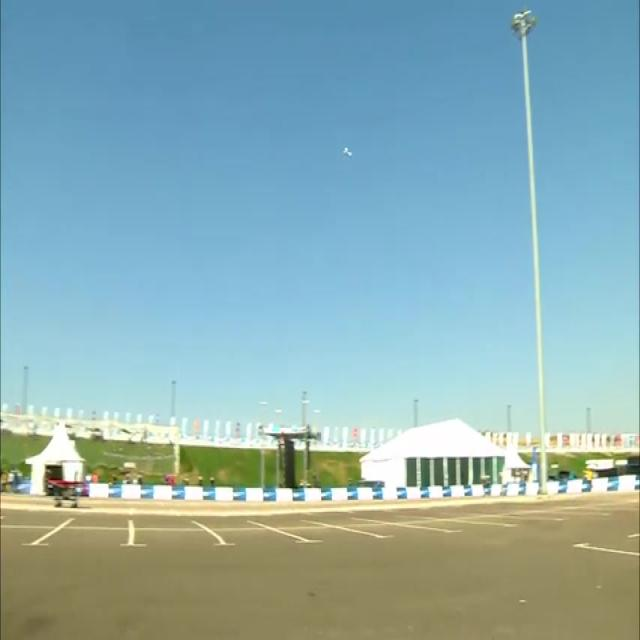iha: (345, 150, 350, 156)
